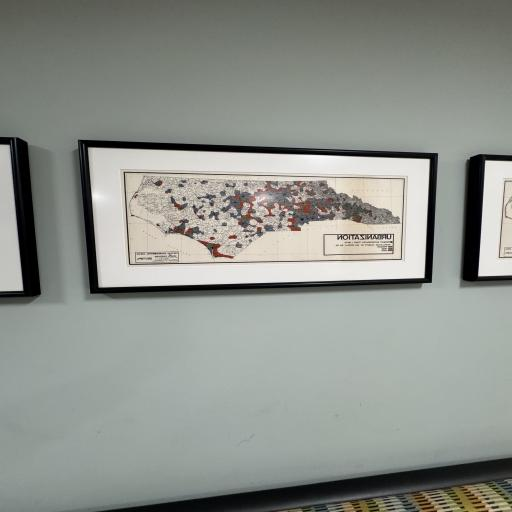poster: (72, 138, 439, 292), (460, 154, 512, 286), (0, 137, 37, 297)
